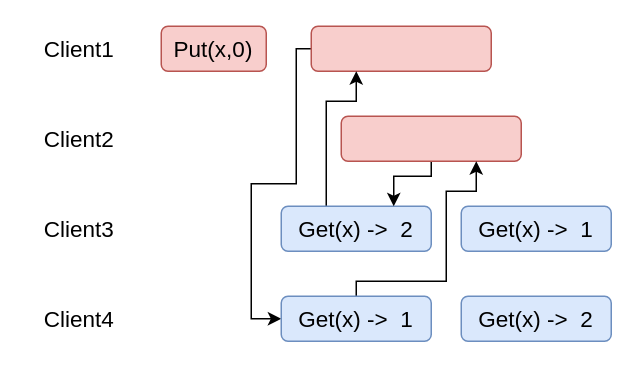
The diagram is 638 pixels wide and 368 high, and some of its shapes have lost their labels. The shapes that lost their labels are listed below. From the top down, each one's centre as x and y in pixels, then its label:
At [400,48]: "Put(x,1)".
At [430,138]: "Put(x,2)".
